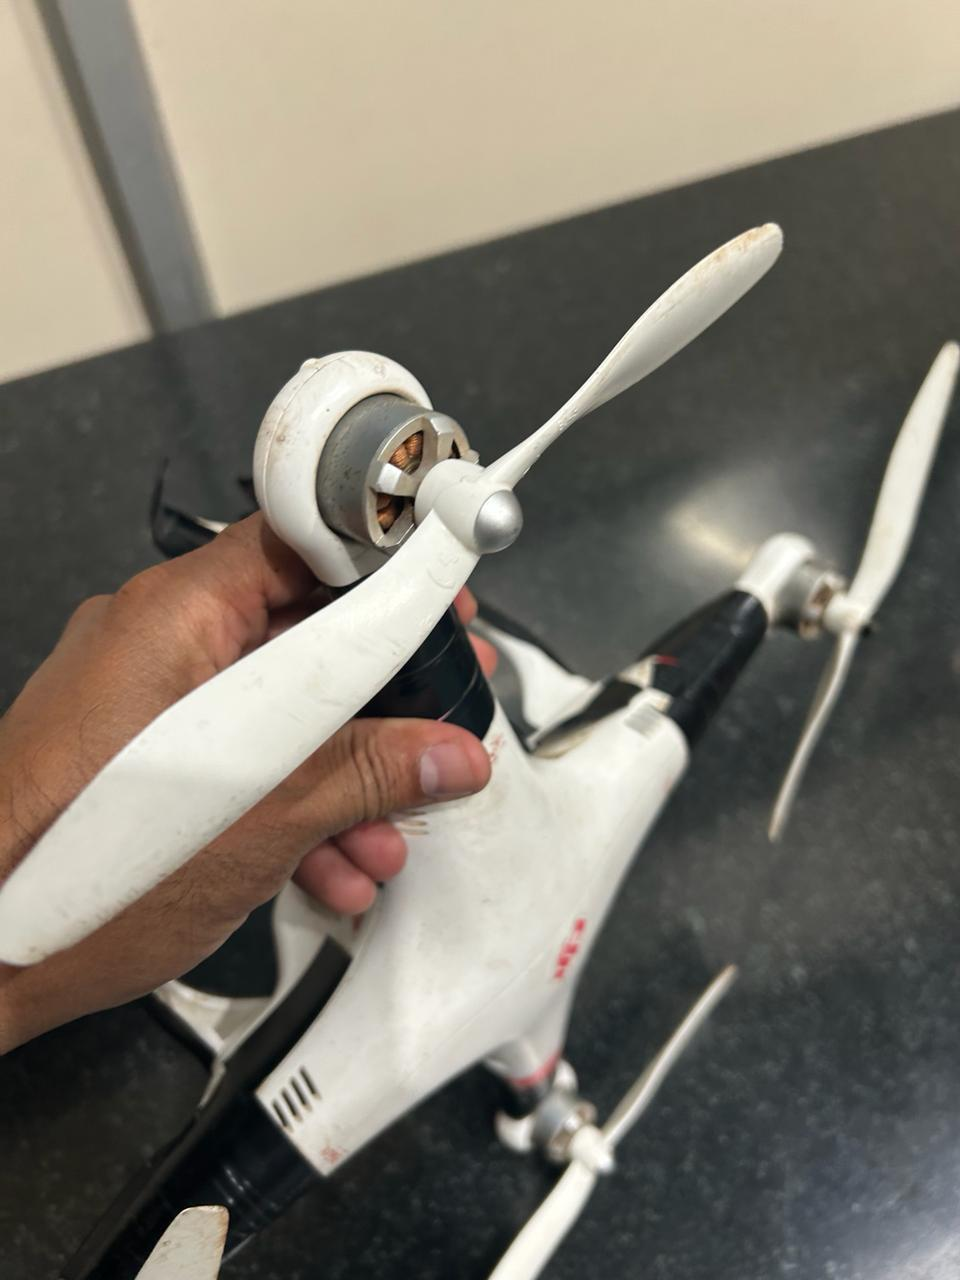drone: (0, 211, 960, 1280)
